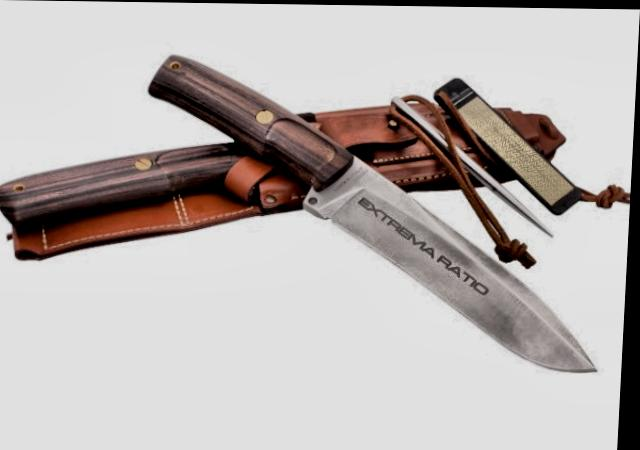knife: (305, 157, 614, 376)
